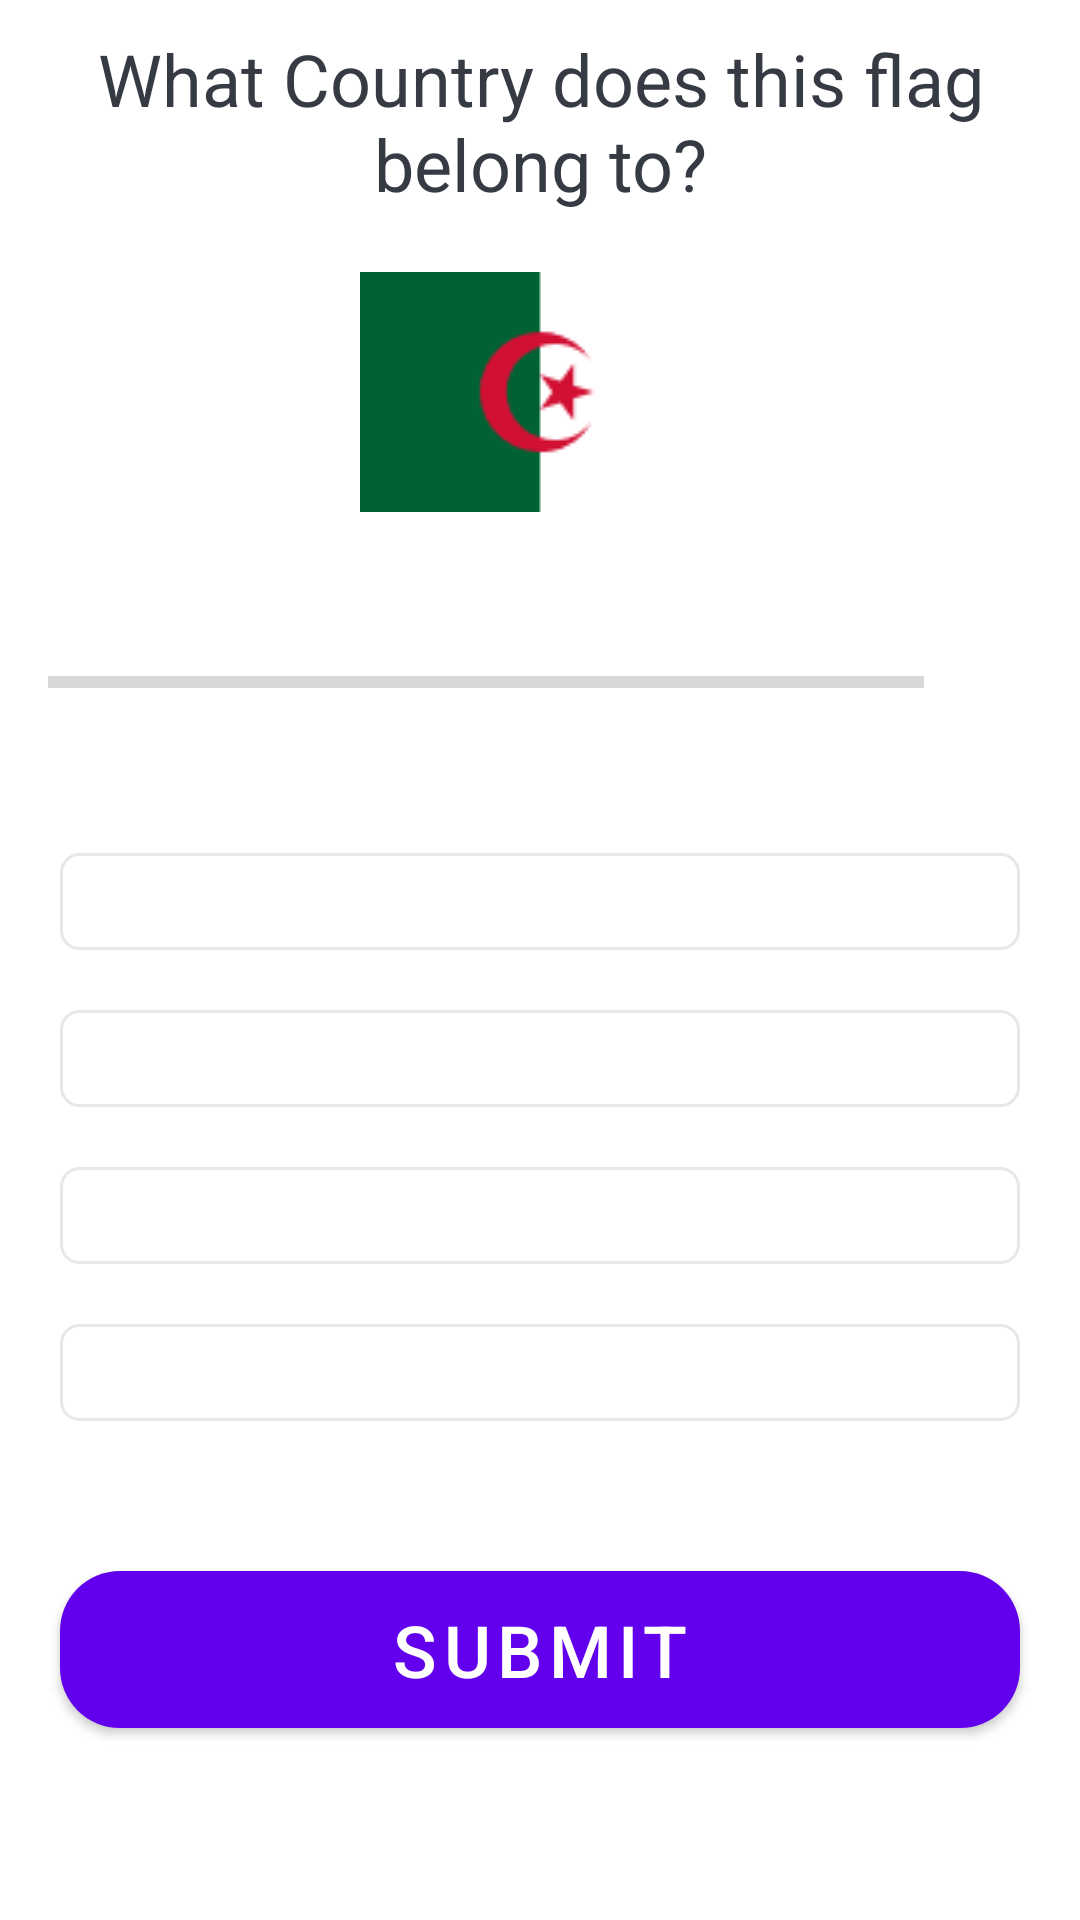

Named icons in this screenshot (1080px×1920px) and their centers, point (x, y):
algeria: point (476, 392)
